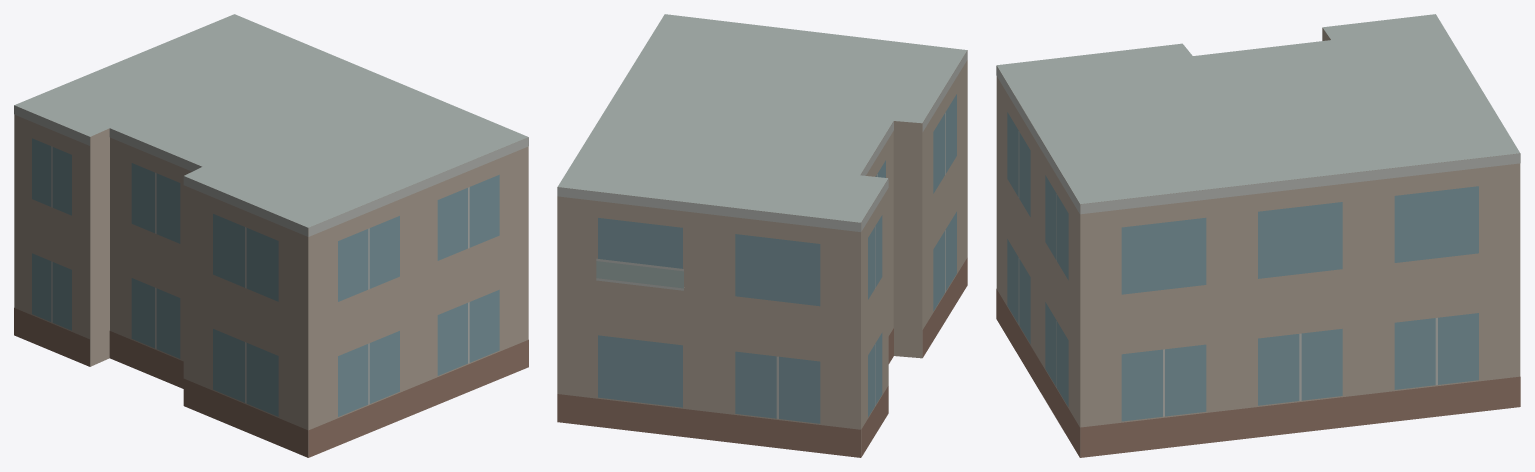
File: survey-upis-32912624.glb
The picture shows the model from 3 angles, left to right: view 1: azimuth 30°, elevation 25°; view 2: azimuth 150°, elevation 25°; view 3: azimuth 270°, elevation 25°; orthographic projection. The views are drawn at different scales.
Visible parts, largest first — view 1: survey-upis-32912624.tmp; view 2: survey-upis-32912624.tmp; view 3: survey-upis-32912624.tmp.
Part boxes in pixels (box(x1,y1,x2,y2)): survey-upis-32912624.tmp: box(14, 14, 528, 457); survey-upis-32912624.tmp: box(557, 14, 967, 457); survey-upis-32912624.tmp: box(996, 14, 1520, 457).
Size of the model in its own units: 9.82 by 6.1 by 11.43.
